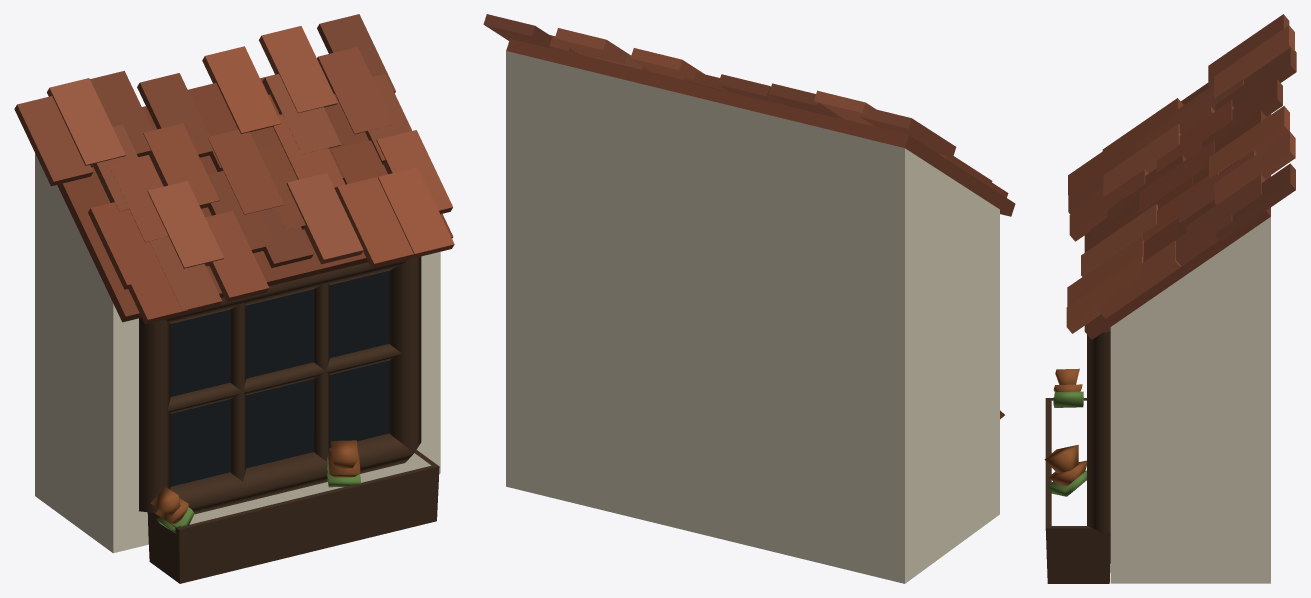
The model's file is oriel_01.glb.
3 views of the same model, side by side, from view 1: azimuth 30°, elevation 25°; view 2: azimuth 150°, elevation 25°; view 3: azimuth 270°, elevation 25° (orthographic). The views are drawn at different scales.
Parts seen in each view (by area): view 1: window_oriel_01; view 2: window_oriel_01; view 3: window_oriel_01.
Part boxes in pixels (x1=…): window_oriel_01: x1=14, y1=14, x2=454, y2=583; window_oriel_01: x1=483, y1=14, x2=1015, y2=583; window_oriel_01: x1=1044, y1=14, x2=1296, y2=583.
Size of the model in its own units: 1.74 by 1.98 by 1.07.
